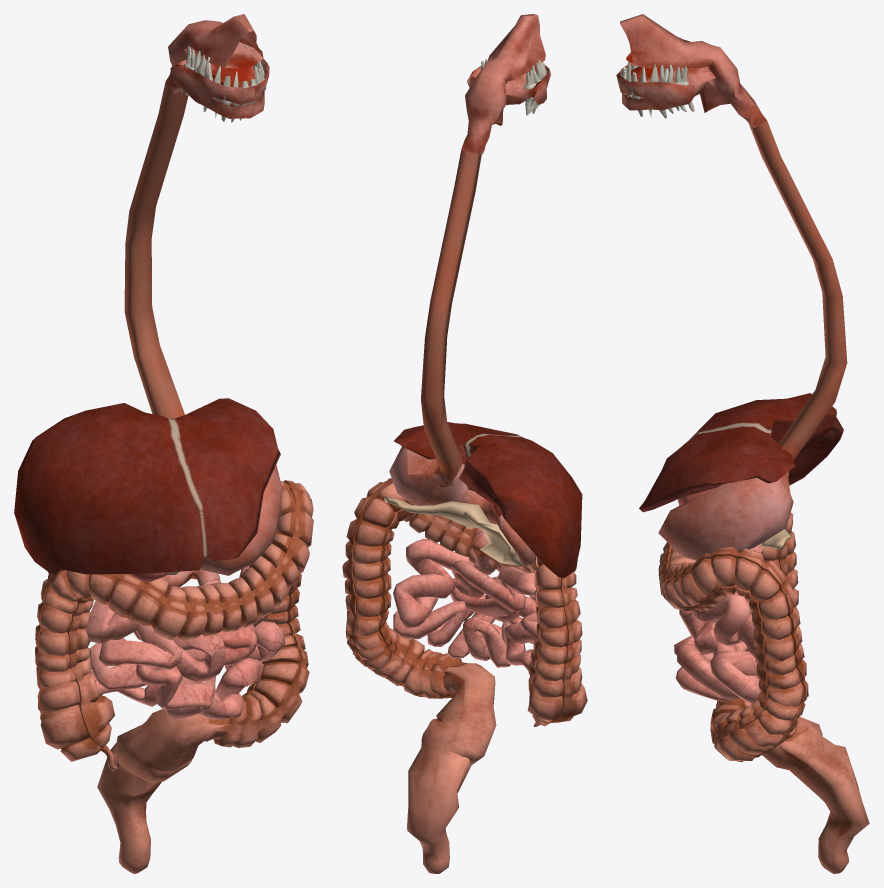
The picture shows the model from 3 angles, left to right: view 1: azimuth 30°, elevation 25°; view 2: azimuth 150°, elevation 25°; view 3: azimuth 270°, elevation 25°; orthographic projection. The views are drawn at different scales.
Visible parts, largest first — view 1: Digestive_Colon_Geo_low1, Falciform_Ligament_low, Digestive_Small_Intestine_Geo_low, Digestive_Stomach_Geo_low, Digestive_Mouth_Geo_low, Male_teeth_low; view 2: Digestive_Colon_Geo_low1, Digestive_Small_Intestine_Geo_low, Falciform_Ligament_low, Digestive_Stomach_Geo_low, Digestive_Mouth_Geo_low, Endocrine_Pancreas_Geo_low, Male_teeth_low; view 3: Digestive_Colon_Geo_low1, Digestive_Stomach_Geo_low, Falciform_Ligament_low, Digestive_Mouth_Geo_low, Digestive_Small_Intestine_Geo_low, Male_teeth_low.
Part boxes in pixels (bbox=[...]): Digestive_Colon_Geo_low1: bbox=[35, 480, 313, 873]; Falciform_Ligament_low: bbox=[14, 398, 280, 574]; Digestive_Small_Intestine_Geo_low: bbox=[86, 565, 285, 719]; Digestive_Stomach_Geo_low: bbox=[124, 83, 282, 586]; Digestive_Mouth_Geo_low: bbox=[165, 14, 269, 118]; Male_teeth_low: bbox=[180, 45, 266, 122]; Digestive_Colon_Geo_low1: bbox=[342, 478, 587, 873]; Digestive_Small_Intestine_Geo_low: bbox=[393, 538, 537, 670]; Falciform_Ligament_low: bbox=[394, 422, 582, 578]; Digestive_Stomach_Geo_low: bbox=[389, 150, 535, 567]; Digestive_Mouth_Geo_low: bbox=[461, 14, 550, 154]; Endocrine_Pancreas_Geo_low: bbox=[384, 496, 523, 565]; Male_teeth_low: bbox=[480, 59, 546, 115]; Digestive_Colon_Geo_low1: bbox=[658, 512, 869, 873]; Digestive_Stomach_Geo_low: bbox=[658, 121, 847, 560]; Falciform_Ligament_low: bbox=[639, 393, 843, 512]; Digestive_Mouth_Geo_low: bbox=[616, 14, 766, 127]; Digestive_Small_Intestine_Geo_low: bbox=[674, 544, 764, 703]; Male_teeth_low: bbox=[620, 62, 694, 118].
Bounding box in the file's own units: 0.607 × 2 × 0.5365.
Materials: 8 (8 with a texture image).
